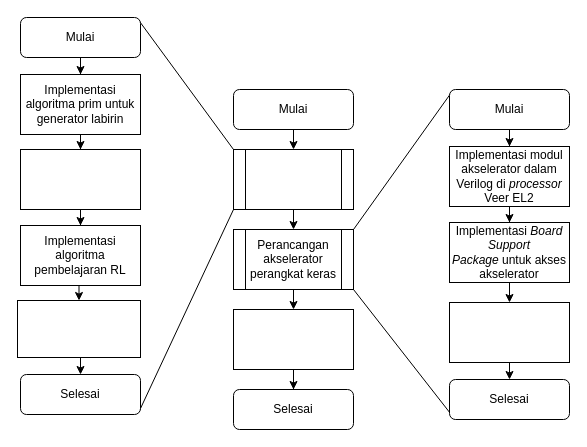
This 587x447 diagram has some shape labels left out. Here are the shapes that lost their labels. From the top down, the box of each, then its label:
(20, 148, 140, 210): Implementasi algoritma DFS untuk benchmark RL
(232, 148, 354, 210): Perancangan algoritma RL dalam perangkat lunak
(16, 300, 140, 358): Pengujian algoritma RL terhadap hasil DFS
(232, 308, 354, 370): Pengujian performa akselerator perangkat keras
(448, 302, 570, 362): Pengujian akurasi akselerator menggunakan verilator
